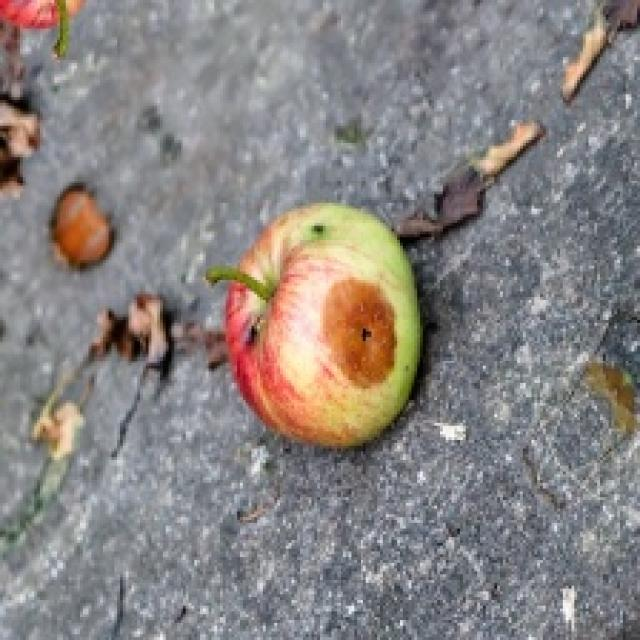rotten_apple: (231, 208, 415, 443)
